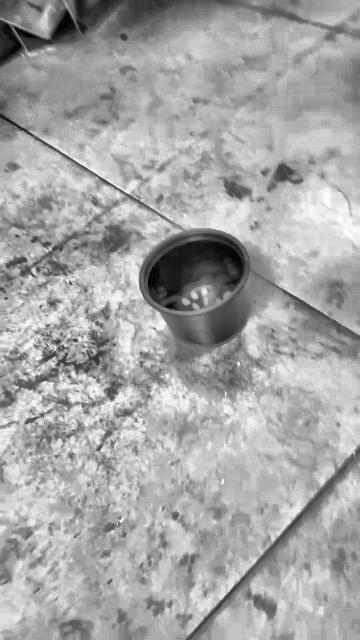pot: (139, 229, 250, 346)
